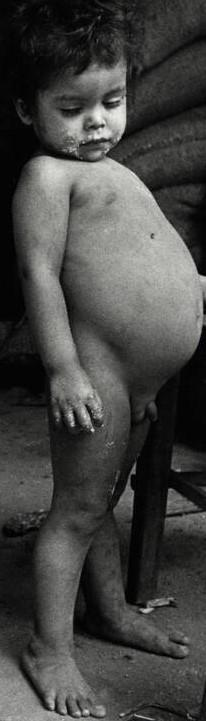Stunting: (4, 2, 180, 202)
